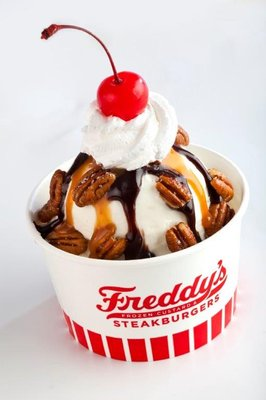sushi: (26, 130, 250, 367)
